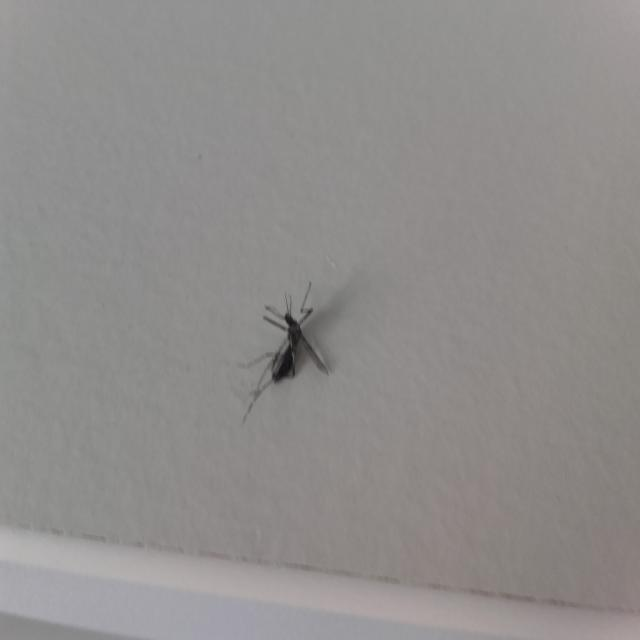albopictus: (235, 273, 334, 429)
